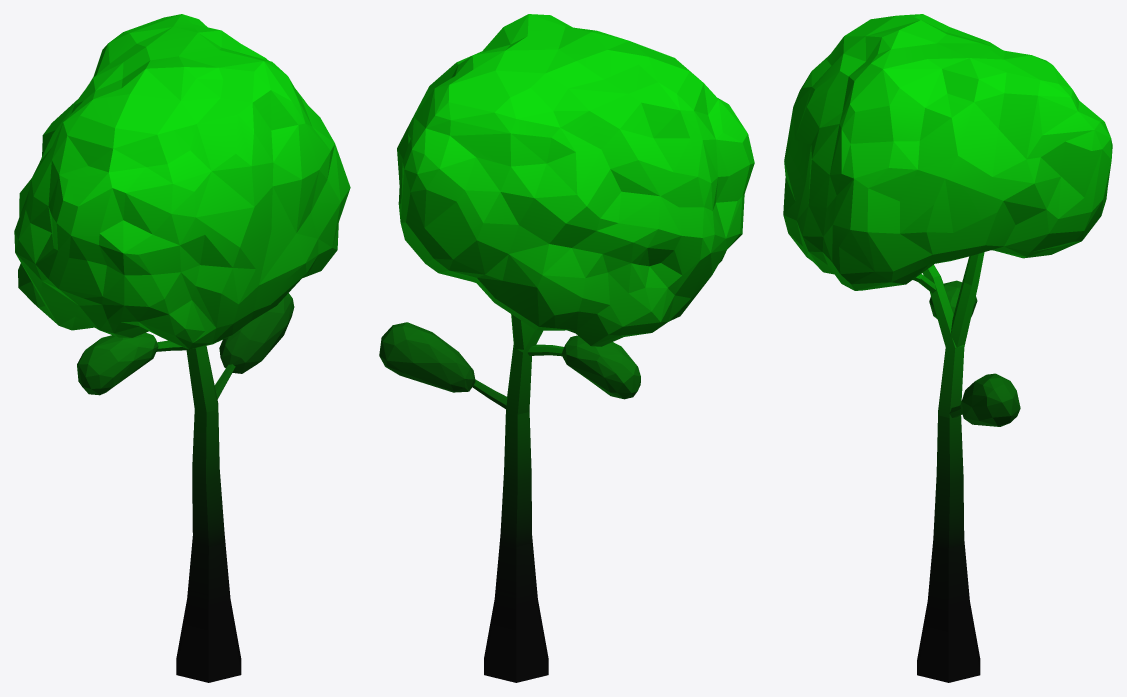
The model's file is SM_Tree_Small_03.fbx.
3 renders of one model, left to right at view 1: azimuth 30°, elevation 25°; view 2: azimuth 150°, elevation 25°; view 3: azimuth 270°, elevation 25°, orthographic. The views are drawn at different scales.
Parts seen in each view (by area): view 1: SM_Tree_Small_03_LOD0; view 2: SM_Tree_Small_03_LOD0; view 3: SM_Tree_Small_03_LOD0.
Boxes of the visible parts, x1,y1,x2,y2 form: SM_Tree_Small_03_LOD0: (14,14,350,682); SM_Tree_Small_03_LOD0: (379,14,754,682); SM_Tree_Small_03_LOD0: (783,14,1112,682).
Bounding box in the file's own units: 502 × 1001 × 487.
